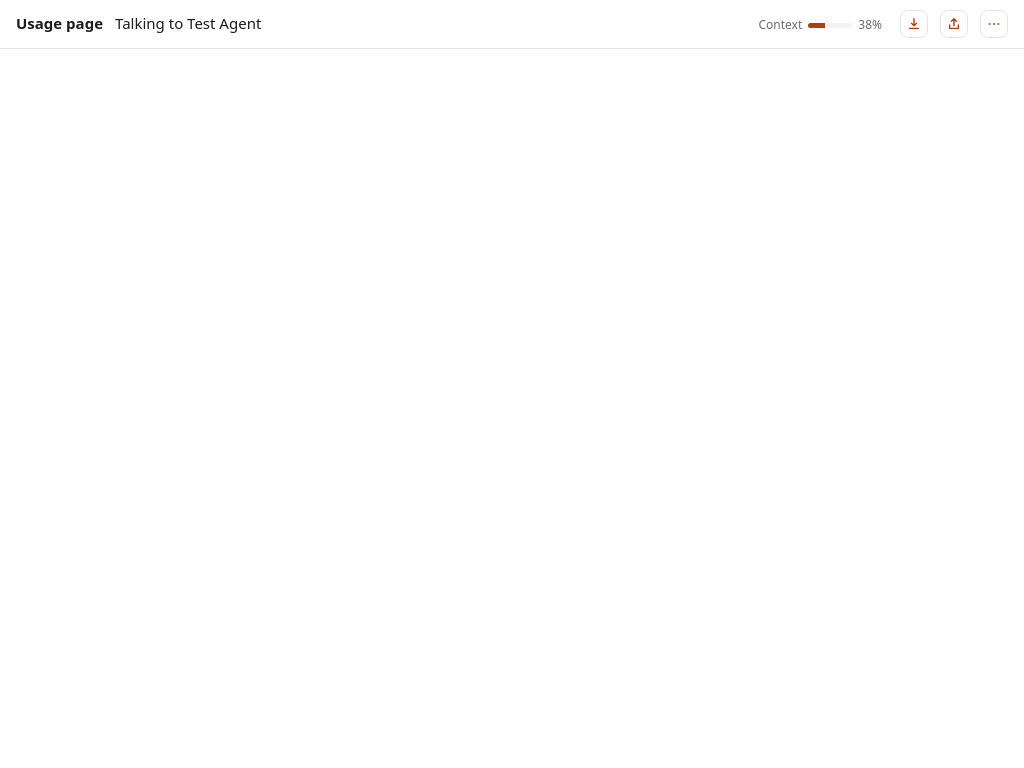
Test: ChatHeader › the context panel › tells the panel whether the parts are exact
The width and height of the screenshot is (1024, 768).
Click the button with class "context": click(820, 25) [752, 14, 888, 36]
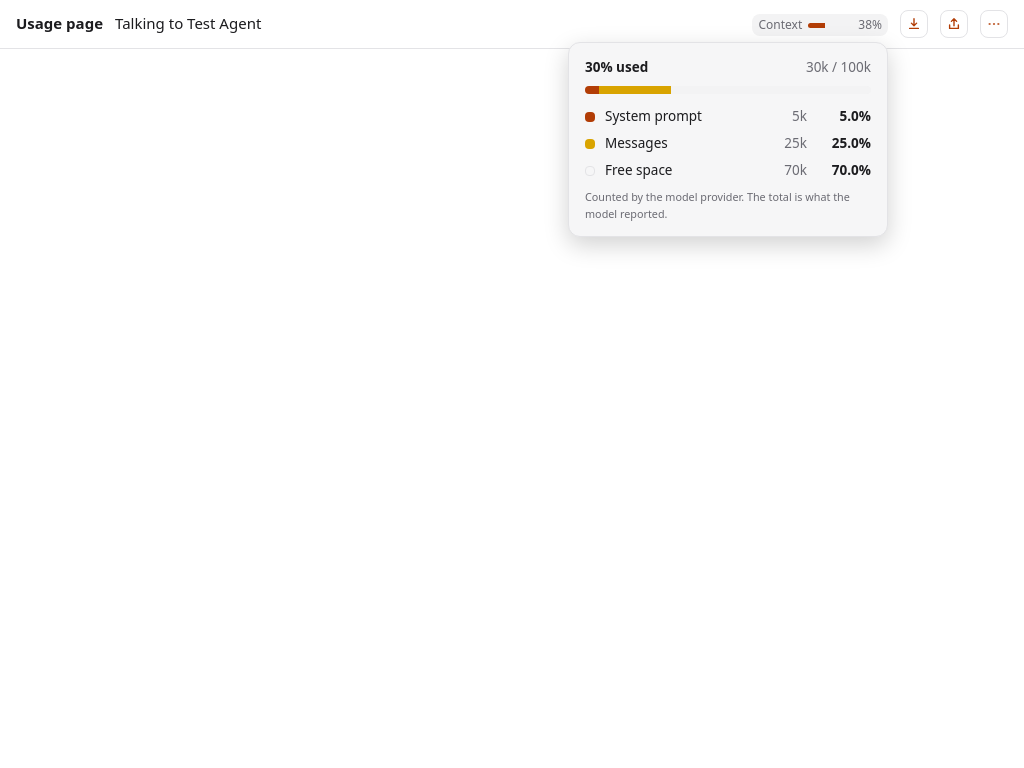
Expected: the dialog with test id "context-panel" shows "Counted by the model provider", [585, 189, 850, 221]
